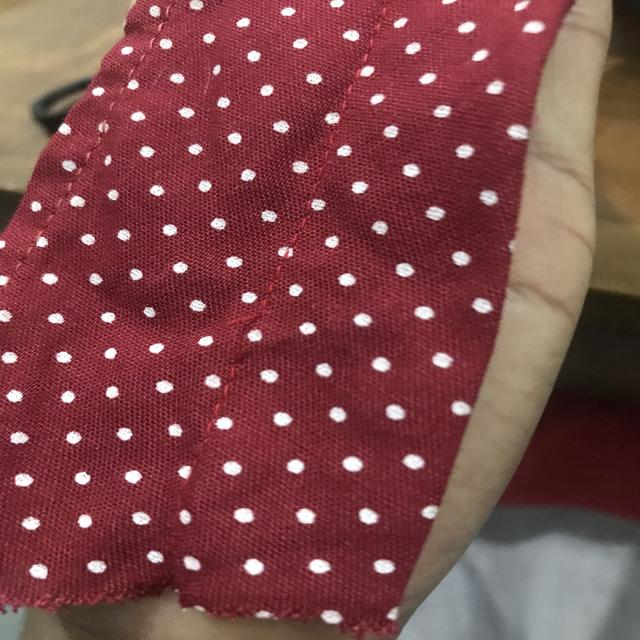broken: (210, 298, 278, 383)
